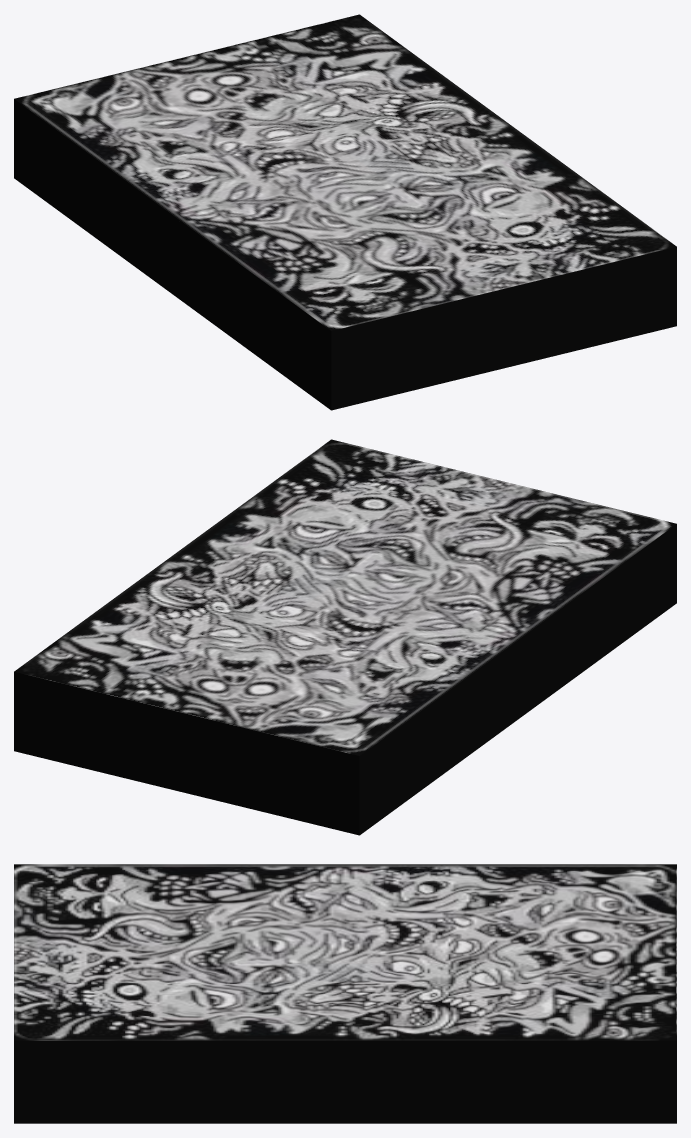
Rendered from tarrot_cards.glb.
3 views of the same model, one above another, from view 1: azimuth 30°, elevation 25°; view 2: azimuth 150°, elevation 25°; view 3: azimuth 270°, elevation 25° (orthographic). The views are drawn at different scales.
Parts seen in each view (by area): view 1: stack; view 2: stack; view 3: stack.
Part boxes in pixels (x1,y1,x2,y2): stack: (14,14,676,410); stack: (14,439,676,835); stack: (14,864,676,1123).
Bounding box in the file's own units: 0.2931 × 0.0644 × 0.4661.
28 materials, 27 textured.
